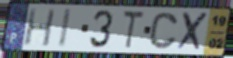3: (88, 8, 116, 50)
C: (147, 11, 180, 51)
H: (22, 8, 57, 48)
I: (57, 7, 73, 49)
T: (121, 9, 146, 51)
X: (175, 11, 210, 53)
